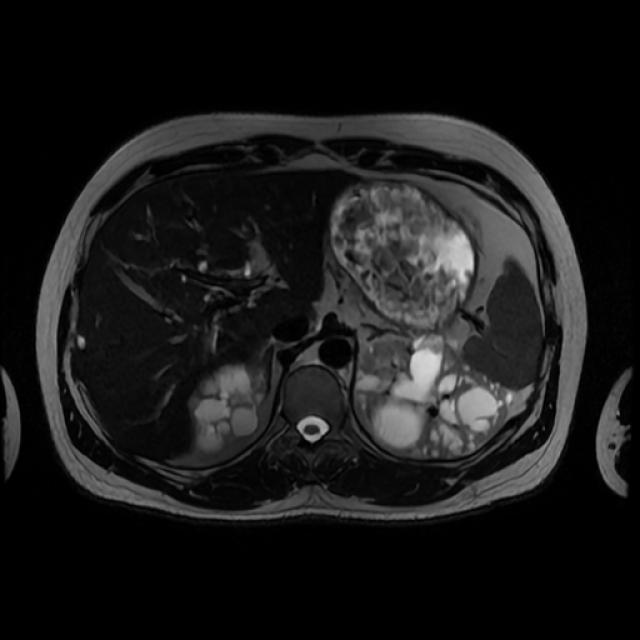sag: (189, 362, 269, 459)
sol: (355, 332, 514, 461)
